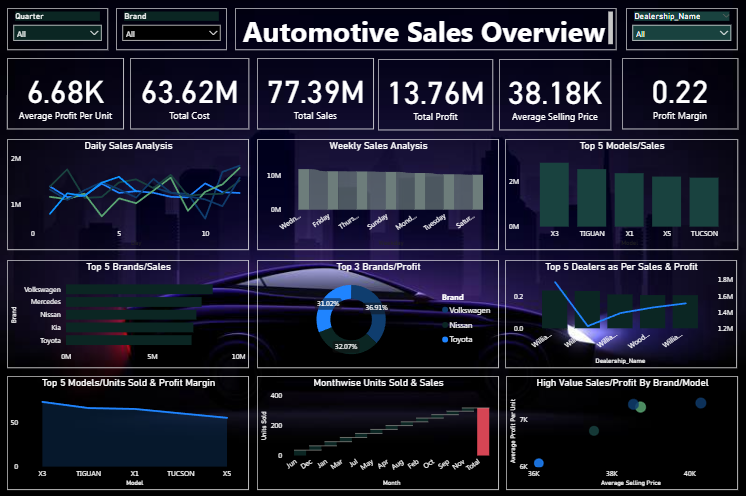

This screenshot's page, from the dashboard's own definition file:
{"tool":"powerbi","page":{"name":"Page 1","canvas":[1280,856],"ordinal":0},"visuals":[{"type":"slicer","fields":{"Values":["DimDate.Quarter"]},"box":[12,13.7,172.9,71.9],"z":0},{"type":"slicer","fields":{"Values":["DimCars.Brand"]},"box":[198.2,13.4,189.8,72.2],"z":1000},{"type":"slicer","fields":{"Values":["DimDealership.Dealership_Name"]},"box":[1071.7,13.4,191.5,72.2],"z":2000},{"type":"textbox","box":[403.1,13.4,653.4,72.2],"z":3000},{"type":"card","fields":{"Values":["Sales.Average Profit Per Unit"]},"box":[12,99.3,200.3,121.6],"z":4000},{"type":"card","fields":{"Values":["Sales.Total Sales"]},"box":[440,99.3,200.3,121.6],"z":5000},{"type":"card","fields":{"Values":["Sales.Total Profit"]},"box":[647.1,101,196.9,121.6],"z":6000},{"type":"card","fields":{"Values":["Sales.Total Cost"]},"box":[222.6,99.3,203.7,121.6],"z":7000},{"type":"card","fields":{"Values":["Sales.Average Selling Price"]},"box":[854.3,101,191.7,121.6],"z":8000},{"type":"card","fields":{"Values":["Sales.Profit Margin"]},"box":[1064.9,99.3,198.6,121.6],"z":9000},{"type":"lineChart","title":"Daily Sales Analysis","fields":{"Category":["DimDate.Date.Variation.Date Hierarchy.Day"],"Y":["Sales.Total Sales"],"Series":["DimDate.Date.Variation.Date Hierarchy.Year"]},"box":[12,238,414.3,190],"z":10000},{"type":"ribbonChart","title":"Weekly Sales Analysis","fields":{"Y":["Sales.Total Sales"],"Category":["DimDate.Weekday"]},"box":[440,238,414.3,190],"z":11000},{"type":"columnChart","title":"Top 5 Models/Sales","fields":{"Y":["Sales.Total Sales"],"Category":["DimCars.Model"]},"box":[864.6,238,398.9,190],"z":12000},{"type":"barChart","title":"Top 5 Brands/Sales","fields":{"Category":["DimCars.Brand"],"Y":["Sales.Total Sales"]},"box":[12,445.1,414.3,184.9],"z":13000},{"type":"donutChart","title":"Top 3 Brands/Profit","fields":{"Category":["DimCars.Brand"],"Y":["Sales.Total Profit"]},"box":[440,445.1,414.3,184.9],"z":14000},{"type":"lineClusteredColumnComboChart","title":"Top 5 Dealers as Per Sales & Profit","fields":{"Category":["DimDealership.Dealership_Name"],"Y":["Sales.Profit Margin"],"Y2":["Sales.Total Sales"]},"box":[864.6,445.1,397.2,184.9],"z":15000},{"type":"stackedAreaChart","title":"Top 5 Models/Units Sold & Profit Margin","fields":{"Category":["DimCars.Model"],"Y":["Sales.Units Sold","Sales.Profit Margin"]},"box":[12,643.7,414.3,195.2],"z":16000},{"type":"waterfallChart","title":"Monthwise Units Sold & Sales","fields":{"Y":["Sales.Units Sold"],"Category":["DimDate.Month"]},"box":[440,643.7,414.3,195.2],"z":17000},{"type":"scatterChart","title":"High Value Sales/Profit By Brand/Model","fields":{"Category":["DimCars.Brand"],"Series":["DimCars.Model"],"X":["Sales.Average Selling Price"],"Y":["Sales.Average Profit Per Unit"],"Size":["Sales.High Value Sales"]},"box":[866.3,643.7,397.2,195.2],"z":18000}]}

Visuals, with their boxes in screenshot pixels (x1, y1, x2, y2), scaled from the page's 1280x856 canvas onto the 746x496 screenshot:
slicer - DimDate.Quarter: crop(7, 8, 108, 50)
slicer - DimCars.Brand: crop(116, 8, 226, 50)
slicer - DimDealership.Dealership_Name: crop(625, 8, 736, 50)
textbox: crop(235, 8, 616, 50)
card - Sales.Average Profit Per Unit: crop(7, 58, 124, 128)
card - Sales.Total Sales: crop(256, 58, 373, 128)
card - Sales.Total Profit: crop(377, 59, 492, 129)
card - Sales.Total Cost: crop(130, 58, 248, 128)
card - Sales.Average Selling Price: crop(498, 59, 610, 129)
card - Sales.Profit Margin: crop(621, 58, 736, 128)
"Daily Sales Analysis" lineChart: crop(7, 138, 248, 248)
"Weekly Sales Analysis" ribbonChart: crop(256, 138, 498, 248)
"Top 5 Models/Sales" columnChart: crop(504, 138, 736, 248)
"Top 5 Brands/Sales" barChart: crop(7, 258, 248, 365)
"Top 3 Brands/Profit" donutChart: crop(256, 258, 498, 365)
"Top 5 Dealers as Per Sales & Profit" lineClusteredColumnComboChart: crop(504, 258, 735, 365)
"Top 5 Models/Units Sold & Profit Margin" stackedAreaChart: crop(7, 373, 248, 486)
"Monthwise Units Sold & Sales" waterfallChart: crop(256, 373, 498, 486)
"High Value Sales/Profit By Brand/Model" scatterChart: crop(505, 373, 736, 486)
